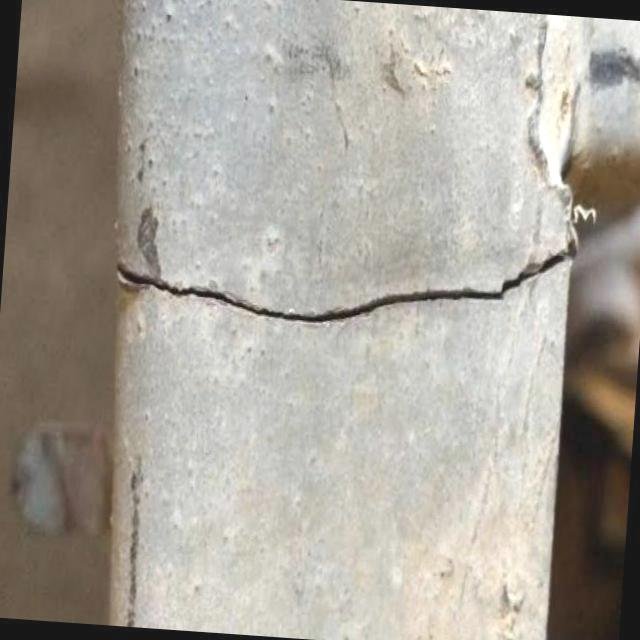defect: (111, 242, 578, 334)
